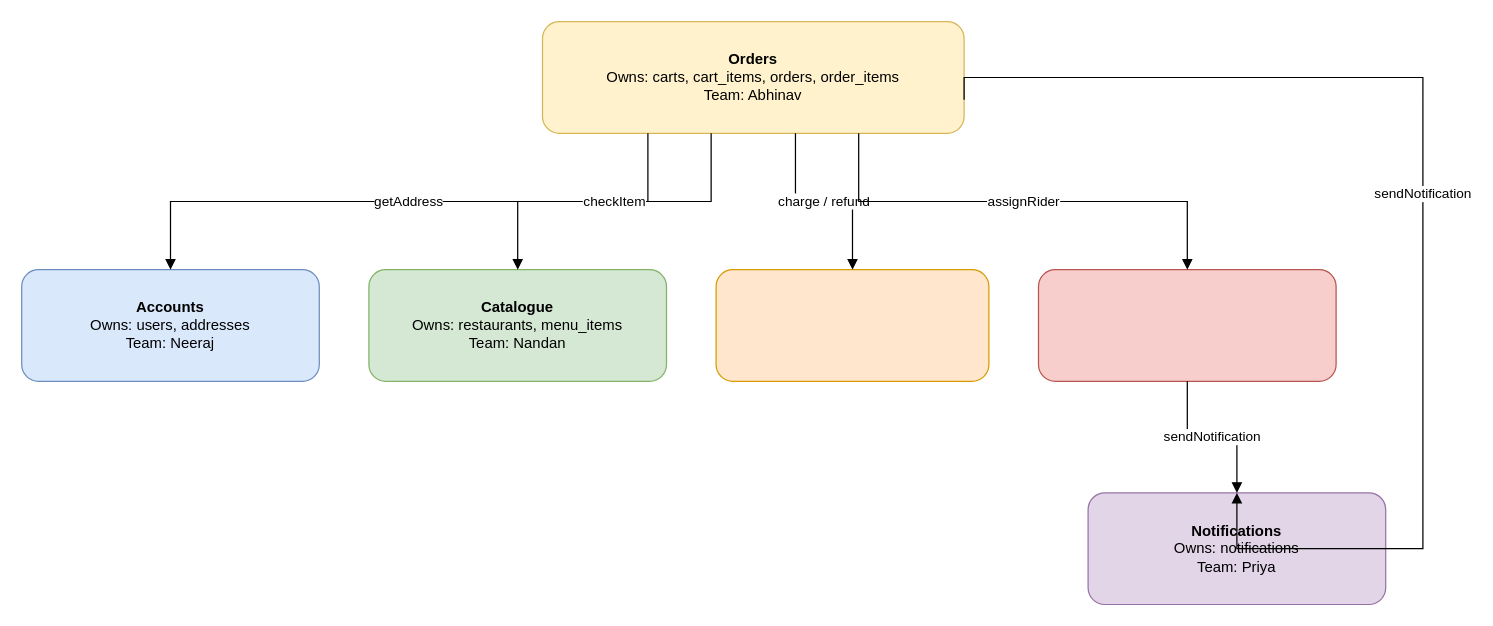
The diagram is 1493 pixels wide and 626 high, and some of its shapes have lost their labels. The shapes that lost their labels are listed below. From the top down, each one's centre as x and y in pixels, then its label:
At point 852,324: "Payments Owns: transactions Team: Abhinav".
At point 1186,324: "Delivery Owns: riders, assignments Team: Priya".
